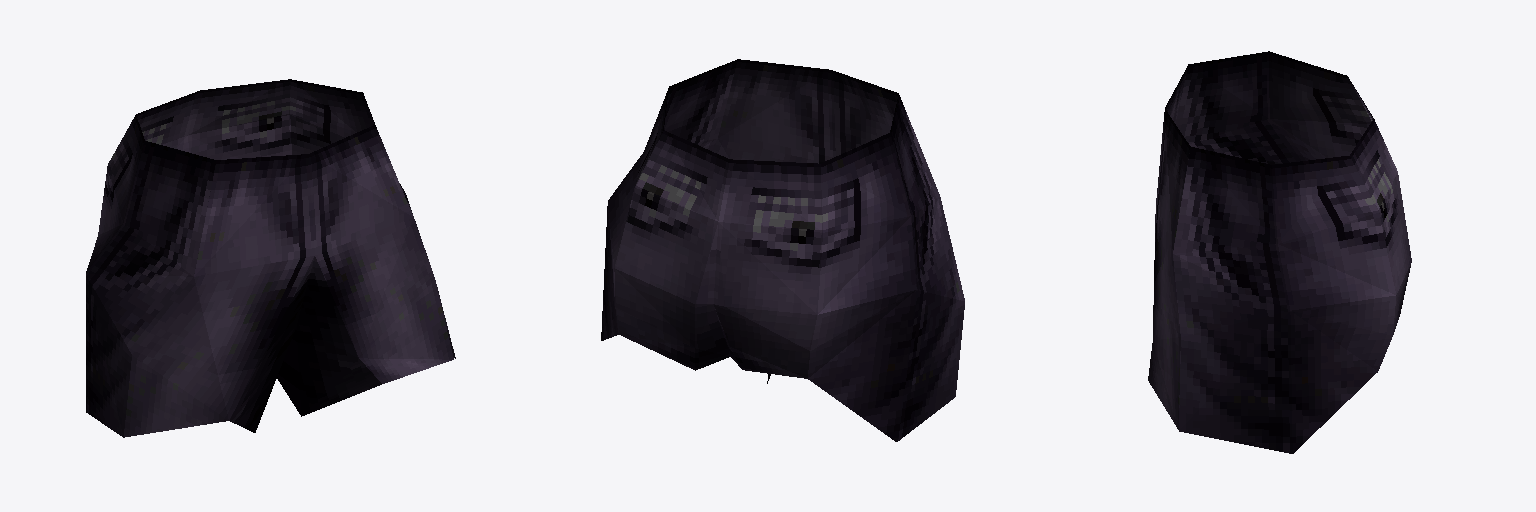
3 views of the same model, side by side, from view 1: azimuth 30°, elevation 25°; view 2: azimuth 150°, elevation 25°; view 3: azimuth 270°, elevation 25° (orthographic).
Parts seen in each view (by area): view 1: 0001_r_sym307; view 2: 0001_r_sym307; view 3: 0001_r_sym307.
Boxes of the visible parts, x1=… form: 0001_r_sym307: x1=86, y1=79, x2=455, y2=437; 0001_r_sym307: x1=601, y1=59, x2=964, y2=441; 0001_r_sym307: x1=1148, y1=51, x2=1411, y2=453.
Bounding box in the file's own units: 0.2157 × 0.1926 × 0.1535.
1 materials, 1 textured.